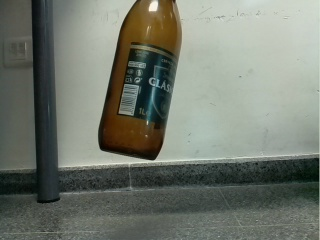pote cristal: (97, 1, 183, 160)
